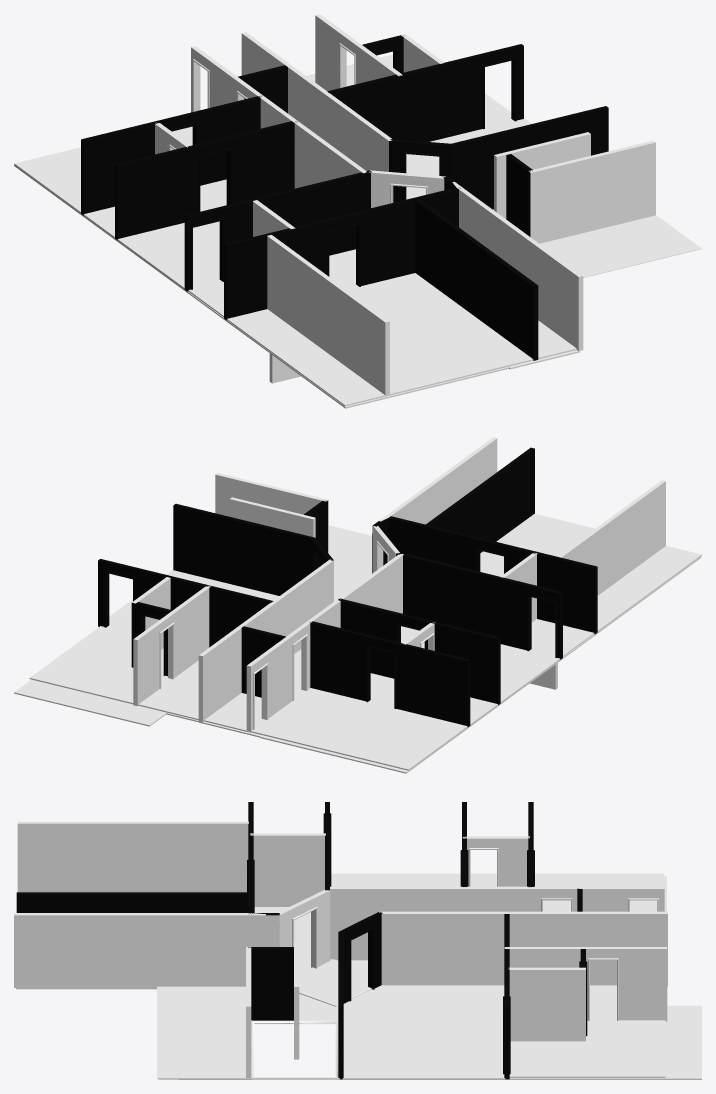
Rendered from Divisiones_PA.obj.
The picture shows the model from 3 angles, top to bottom: view 1: azimuth 30°, elevation 25°; view 2: azimuth 150°, elevation 25°; view 3: azimuth 270°, elevation 25°; orthographic projection. The views are drawn at different scales.
Visible parts, largest first — view 1: polySurface199, polySurface83, polySurface120, polySurface81; view 2: polySurface199, polySurface83, polySurface120, polySurface81; view 3: polySurface83, polySurface120, polySurface199, polySurface81.
Boxes of the visible parts, bbox=[...] form: polySurface199: bbox=[81, 35, 608, 360]; polySurface83: bbox=[155, 14, 655, 395]; polySurface120: bbox=[14, 80, 701, 406]; polySurface81: bbox=[14, 54, 579, 408]; polySurface199: bbox=[98, 447, 597, 727]; polySurface83: bbox=[132, 437, 665, 732]; polySurface120: bbox=[29, 513, 701, 770]; polySurface81: bbox=[14, 557, 701, 773]; polySurface83: bbox=[14, 821, 667, 1077]; polySurface120: bbox=[157, 873, 665, 1079]; polySurface199: bbox=[16, 802, 587, 1079]; polySurface81: bbox=[16, 876, 701, 1079].
Size of the model in its own units: 5.63 by 1.86 by 7.99.
3 materials, 2 textured.
